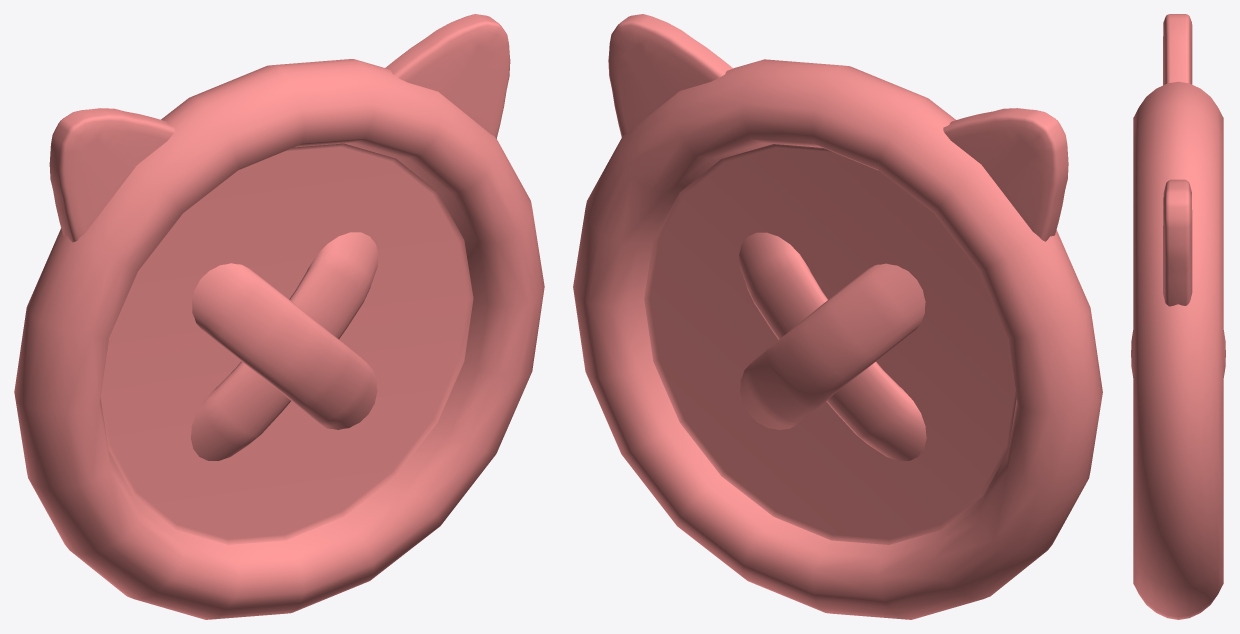
File: BonusButtonCoin.glb
The picture shows the model from 3 angles, left to right: view 1: azimuth 30°, elevation 25°; view 2: azimuth 150°, elevation 25°; view 3: azimuth 270°, elevation 25°; orthographic projection. The views are drawn at different scales.
Visible parts, largest first — view 1: NormalButtonCoin; view 2: NormalButtonCoin; view 3: NormalButtonCoin.
Boxes of the visible parts, x1,y1,x2,y2 form: NormalButtonCoin: (14, 14, 544, 619); NormalButtonCoin: (573, 14, 1102, 619); NormalButtonCoin: (1131, 14, 1225, 619).
Bounding box in the file's own units: 1.8 × 1.81 × 0.3149.
